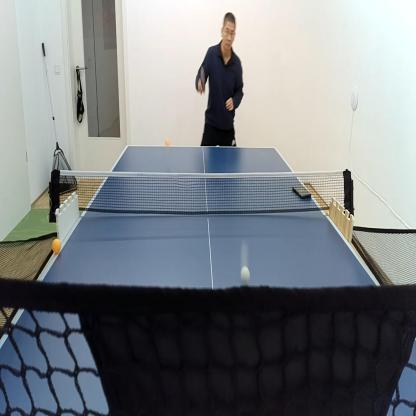Ball: (240, 265, 251, 284), (51, 237, 62, 255), (165, 138, 171, 149)
